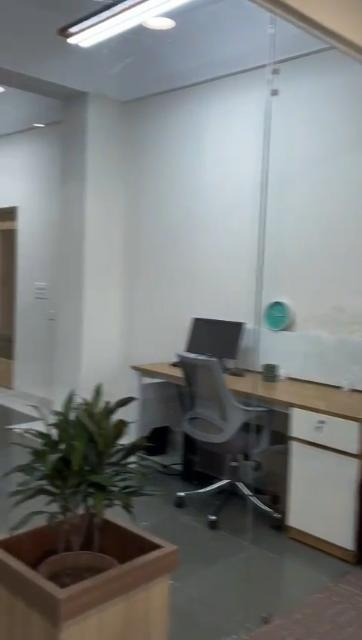door: (0, 210, 14, 386)
floor: (141, 473, 361, 639), (1, 388, 50, 535)
object: (7, 406, 172, 640), (174, 366, 292, 514), (294, 380, 354, 550), (194, 310, 246, 362)
